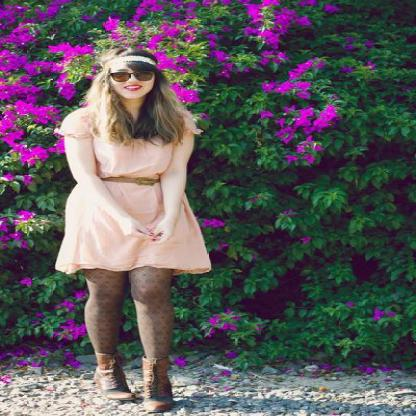dress: (54, 114, 210, 273)
shoe: (82, 358, 185, 415)
sunglass: (107, 68, 130, 86)
